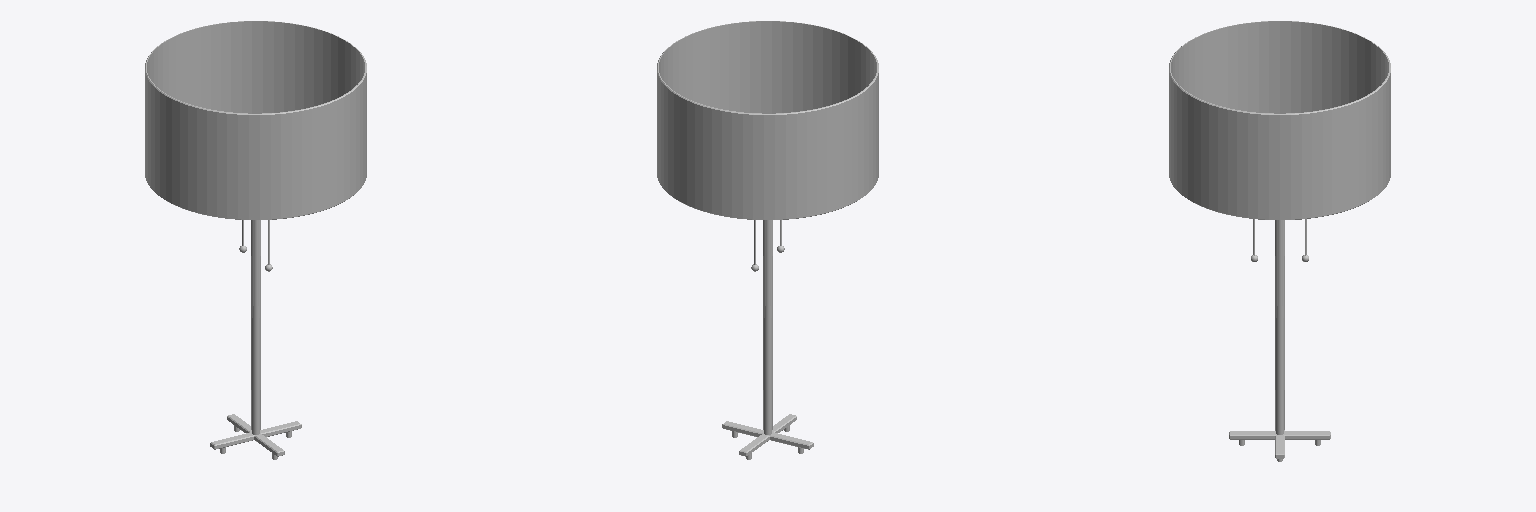
The model's file is deng.obj.
3 views of the same model, side by side, from view 1: azimuth 30°, elevation 25°; view 2: azimuth 150°, elevation 25°; view 3: azimuth 270°, elevation 25° (orthographic).
Parts seen in each view (by area): view 1: qingmo_0374d85c_4937_44ee_919c_9200d97d9aa4, qingmo_5ac25bef_cc87_4530_ae5a_4324f96326b6, qingmo_99c11487_4c73_412b_86cc_1438d7be20d4, qingmo_a5256a0d_ccf5_44b8_a989_c548cfd4dc4e; view 2: qingmo_0374d85c_4937_44ee_919c_9200d97d9aa4, qingmo_5ac25bef_cc87_4530_ae5a_4324f96326b6, qingmo_99c11487_4c73_412b_86cc_1438d7be20d4, qingmo_a5256a0d_ccf5_44b8_a989_c548cfd4dc4e; view 3: qingmo_0374d85c_4937_44ee_919c_9200d97d9aa4, qingmo_5ac25bef_cc87_4530_ae5a_4324f96326b6, qingmo_99c11487_4c73_412b_86cc_1438d7be20d4, qingmo_a5256a0d_ccf5_44b8_a989_c548cfd4dc4e.
Boxes of the visible parts, box(x1,y1,x2,y2) form: qingmo_0374d85c_4937_44ee_919c_9200d97d9aa4: box(145, 21, 366, 219); qingmo_5ac25bef_cc87_4530_ae5a_4324f96326b6: box(147, 21, 364, 113); qingmo_99c11487_4c73_412b_86cc_1438d7be20d4: box(251, 220, 260, 434); qingmo_a5256a0d_ccf5_44b8_a989_c548cfd4dc4e: box(210, 414, 301, 459); qingmo_0374d85c_4937_44ee_919c_9200d97d9aa4: box(657, 21, 878, 219); qingmo_5ac25bef_cc87_4530_ae5a_4324f96326b6: box(659, 21, 876, 113); qingmo_99c11487_4c73_412b_86cc_1438d7be20d4: box(763, 220, 772, 434); qingmo_a5256a0d_ccf5_44b8_a989_c548cfd4dc4e: box(722, 414, 813, 459); qingmo_0374d85c_4937_44ee_919c_9200d97d9aa4: box(1169, 21, 1390, 219); qingmo_5ac25bef_cc87_4530_ae5a_4324f96326b6: box(1171, 21, 1388, 113); qingmo_99c11487_4c73_412b_86cc_1438d7be20d4: box(1275, 220, 1284, 434); qingmo_a5256a0d_ccf5_44b8_a989_c548cfd4dc4e: box(1229, 430, 1330, 461).
Size of the model in its own units: 23.94 by 44.8 by 23.94.